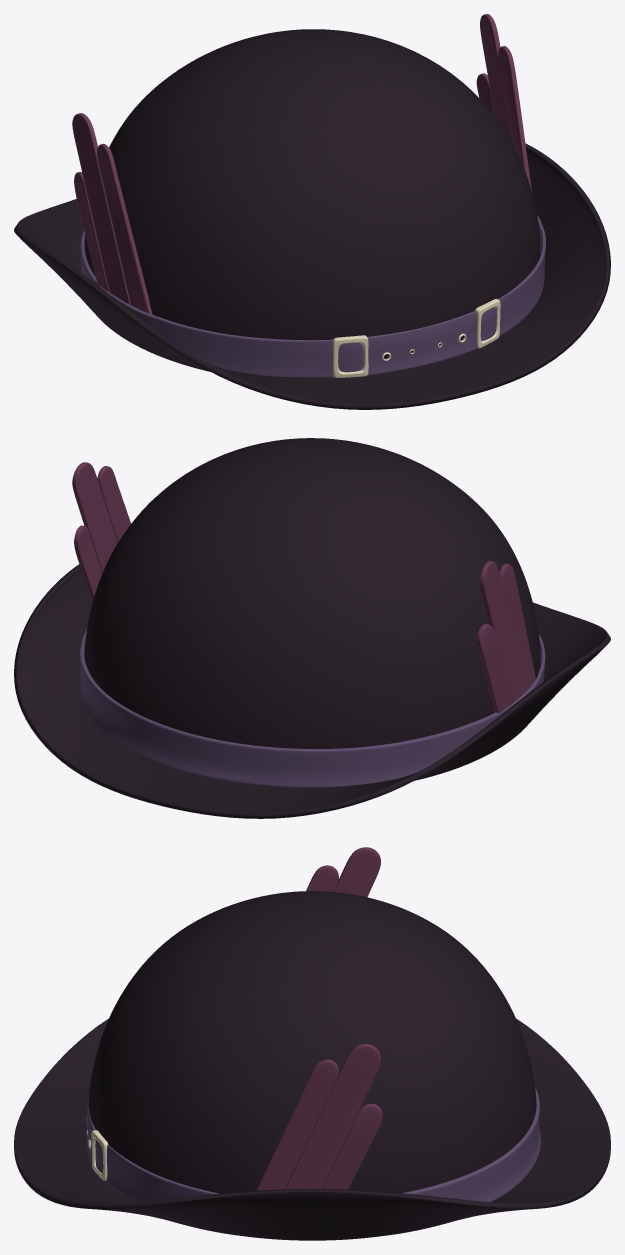
Rendered from hat4.glb.
3 views of the same model, one above another, from view 1: azimuth 30°, elevation 25°; view 2: azimuth 150°, elevation 25°; view 3: azimuth 270°, elevation 25° (orthographic).
Parts seen in each view (by area): view 1: Cube_Cube008, Cube001_Cube002, Cube002_Cube003; view 2: Cube_Cube008, Cube001_Cube002; view 3: Cube_Cube008, Cube001_Cube002.
Boxes of the visible parts, x1,y1,x2,y2 form: Cube_Cube008: (14,29,610,409); Cube001_Cube002: (72,14,545,377); Cube002_Cube003: (333,298,500,377); Cube_Cube008: (14,438,610,818); Cube001_Cube002: (72,462,545,787); Cube_Cube008: (14,891,610,1240); Cube001_Cube002: (86,847,540,1202).
Size of the model in its own units: 19.84 by 9.41 by 21.79.
